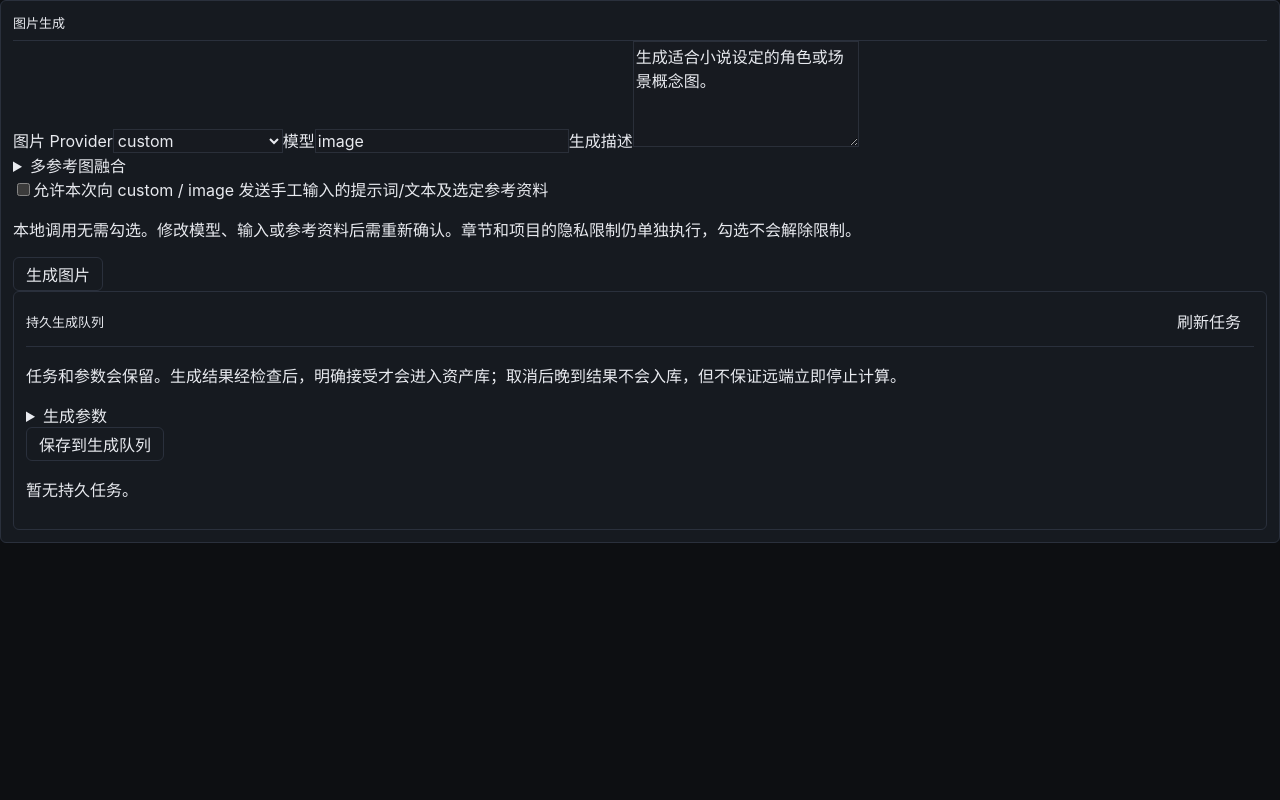
Test case: blocks an unsafe provider result from preview and canvas insertion
What coordinates should you click on to do the following:
click the button "生成图片"
I would click on:
 (58, 274)
Its box is [13, 257, 103, 291].
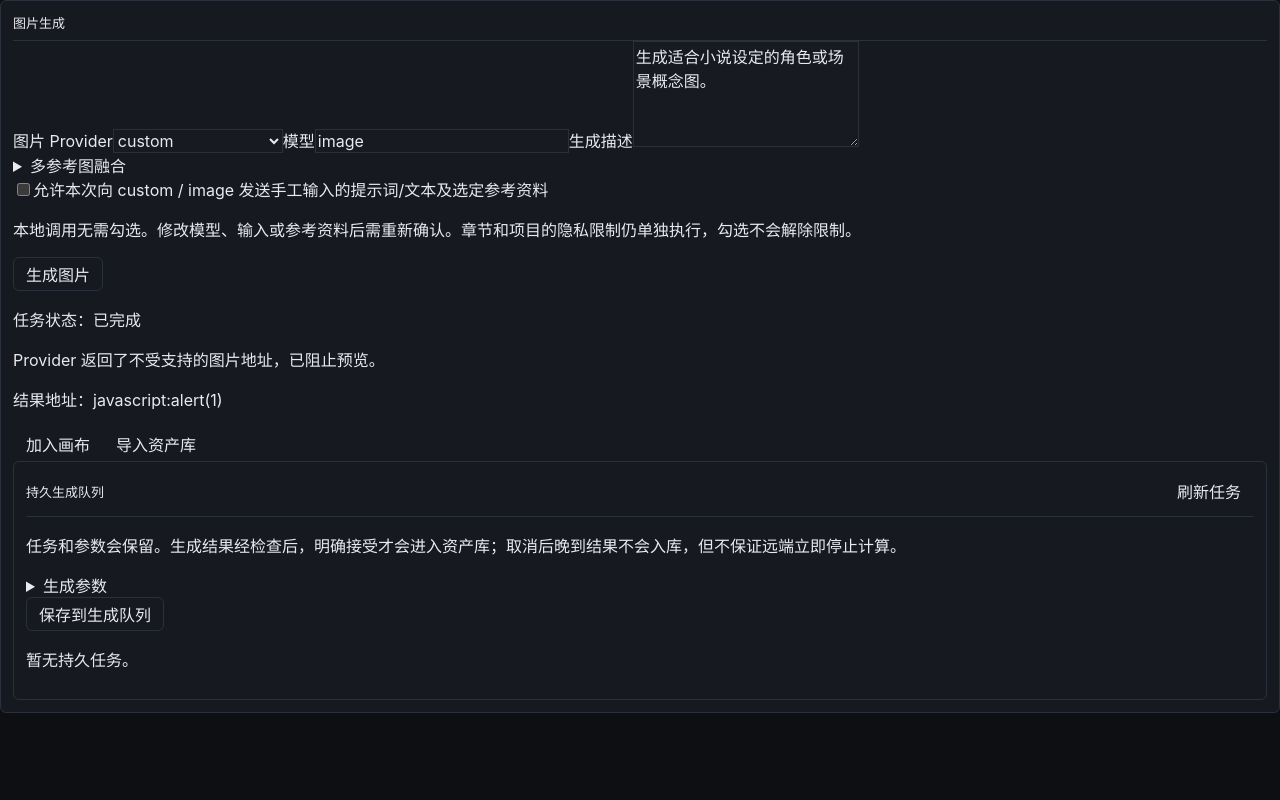
Expected: the text "Provider 返回了不受支持的图片地址，已阻止预览。" is shown, [13, 350, 385, 370]
Expected: the button "加入画布" is disabled, [13, 427, 103, 461]
